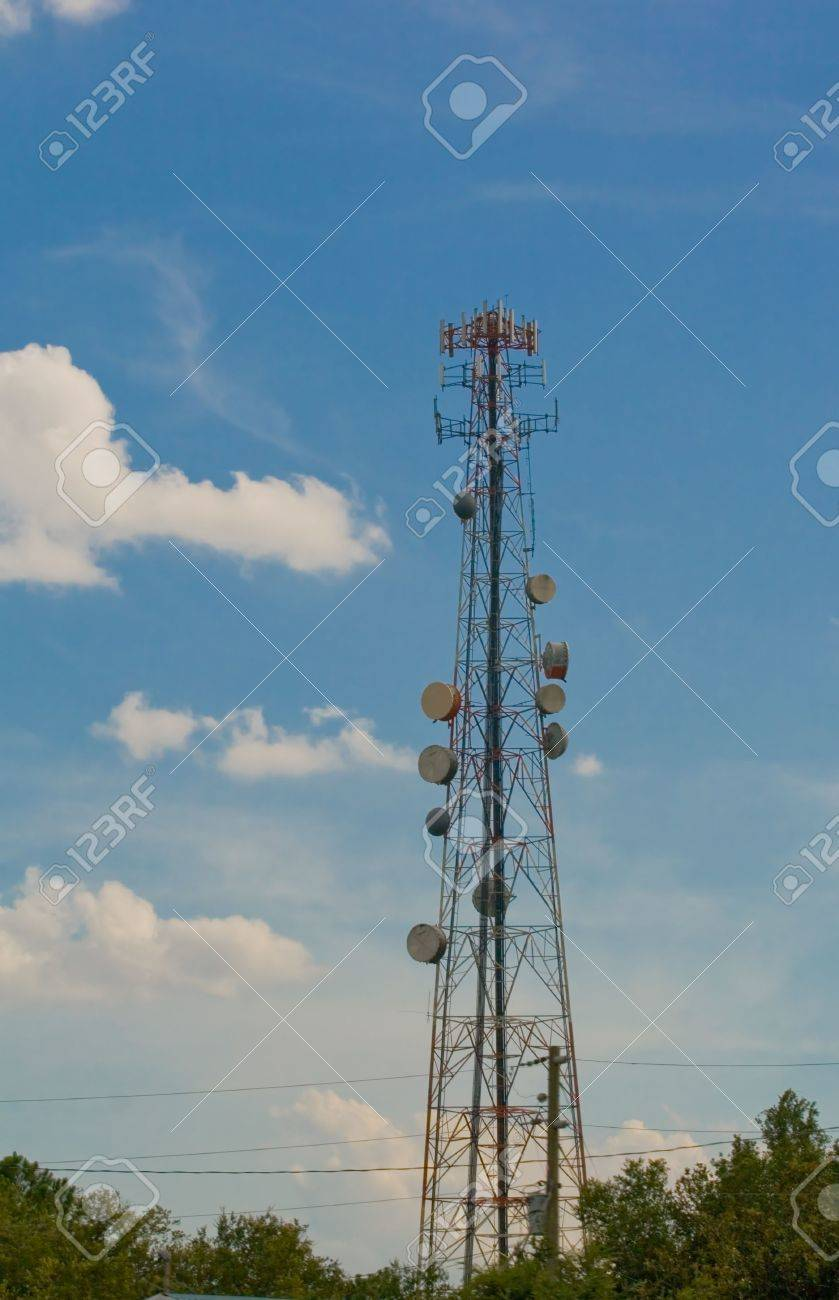ba: (391, 908, 457, 988), (421, 682, 474, 750), (522, 560, 566, 617), (544, 634, 579, 688)
